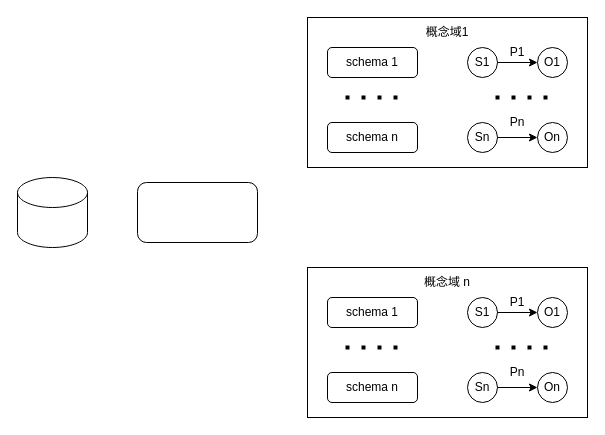
This 605x435 diagram has some shape labels left out. Each missing label, with the centre of its shape:
"Querys-Answers" goes at (x=52, y=212).
"基于Query聚类" goes at (x=197, y=212).
